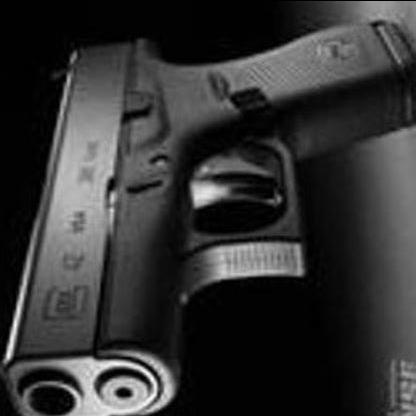weapon: (1, 10, 416, 416)
